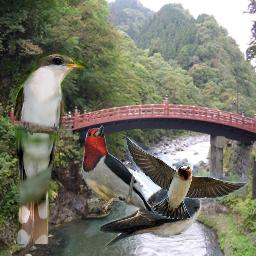Cuckoo: (12, 52, 90, 244)
Swallow: (124, 135, 247, 219), (99, 176, 203, 247)
Woodpecker: (78, 121, 160, 225)
